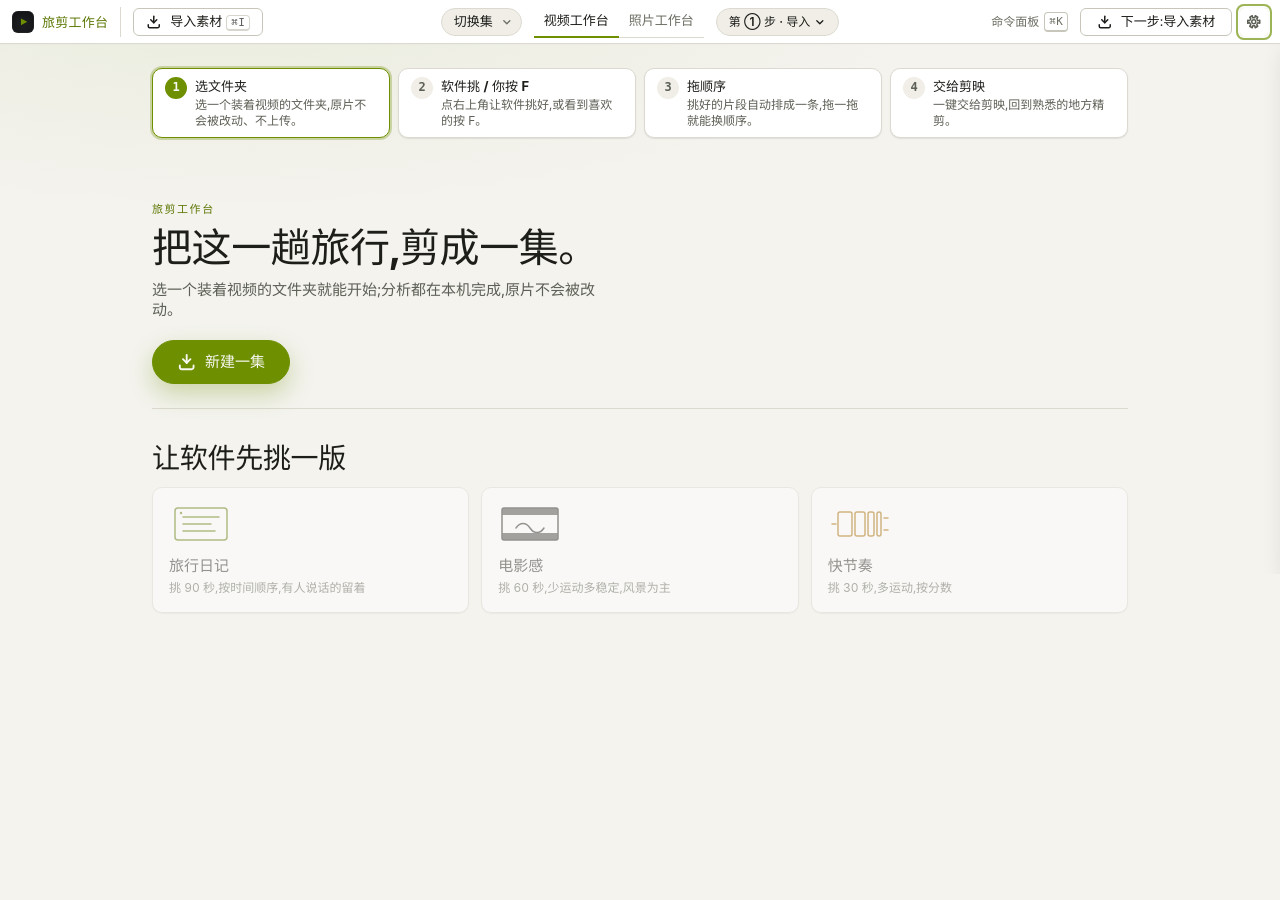
Test case: P2-8 / P2-12 播放与导出 › 「恢复默认布局」写 ui.pane.* 五个默认值、store 回默认、折叠的栏展开、壳收到重挂事件
Click the button named "设置". click: (1254, 22)
box: [1240,8,1268,36]
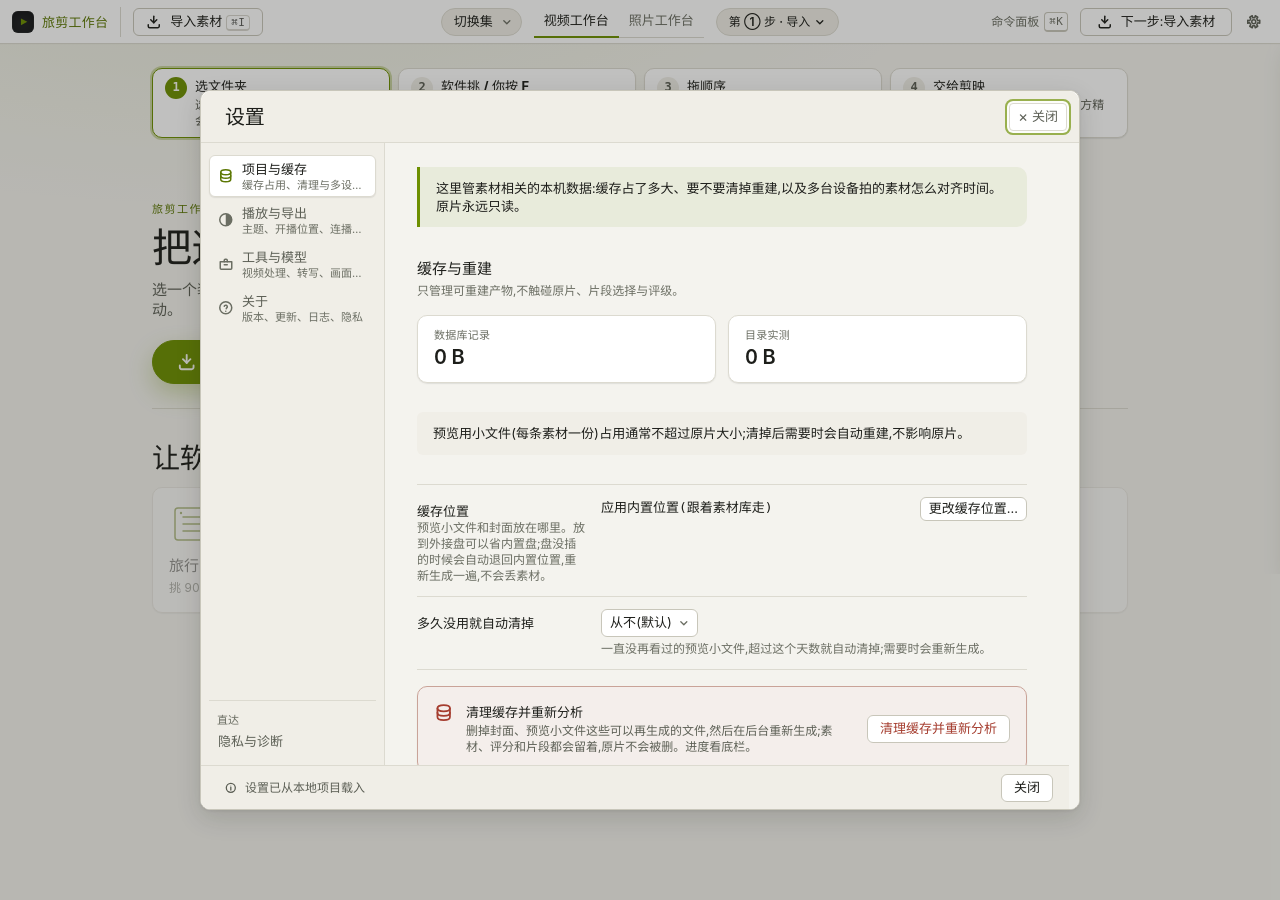
Expected: the message reads "设置已从本地项目载入", [245,780,365,794]
Click the tab "播放与导出 主题、开播位置、连播、导出文件夹". click: (292, 220)
box: [209,199,376,241]
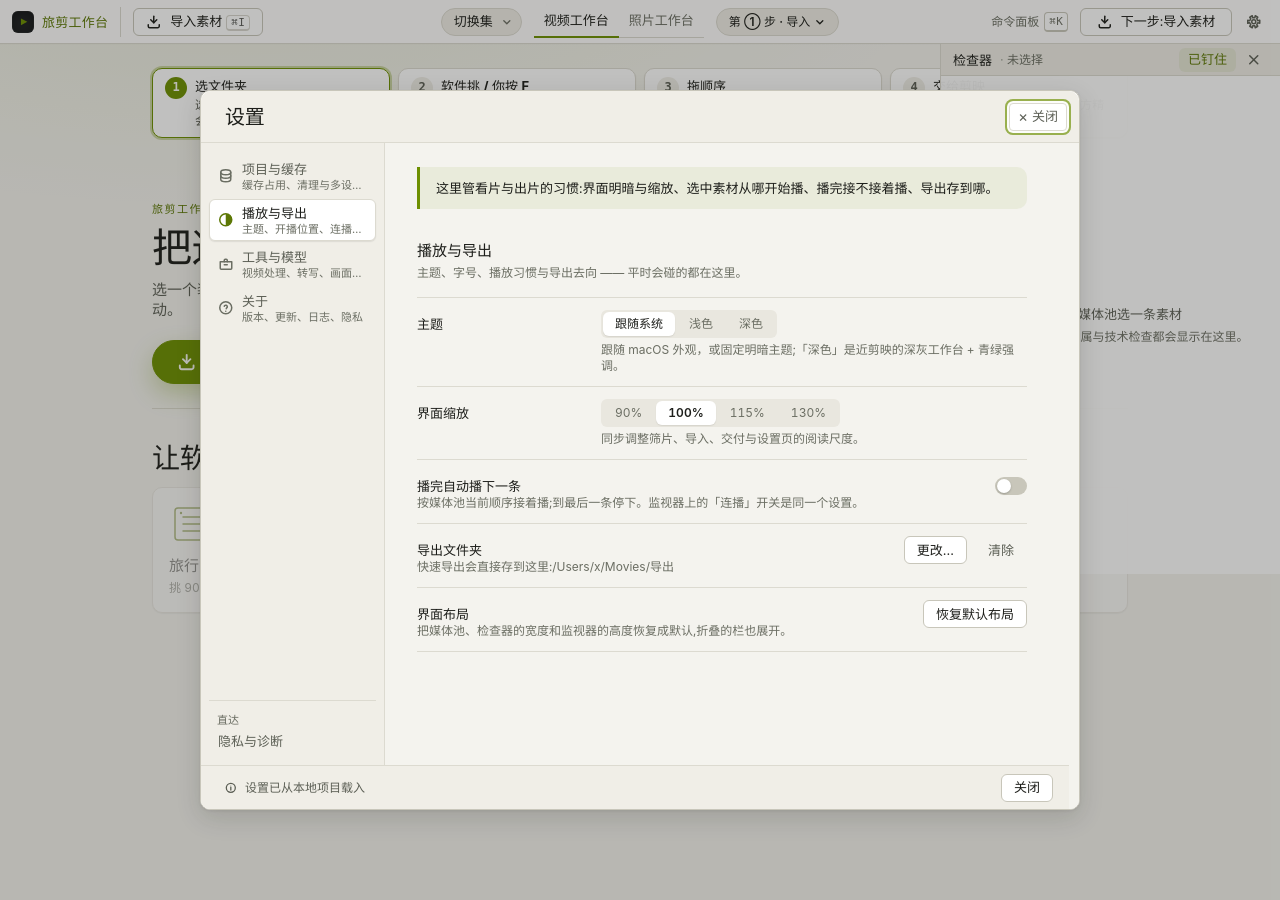
Click the button "恢复默认布局". click: (975, 614)
box: [923,600,1027,628]
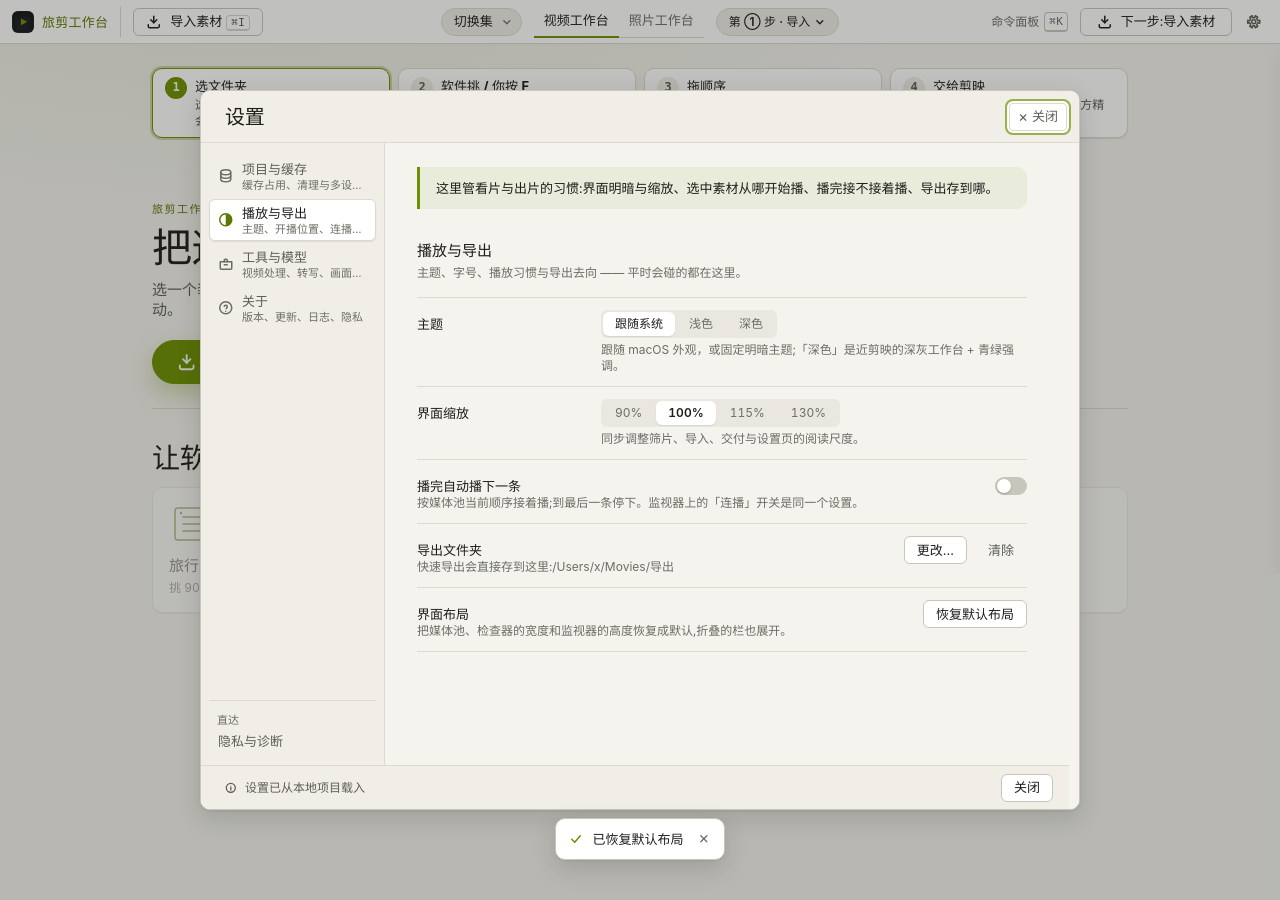
Expected: the text "已恢复默认布局" is shown, [592,830,684,848]
